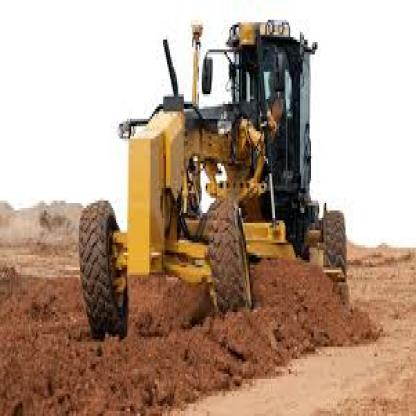bull_dozer/loader/grader: (59, 15, 358, 361)
